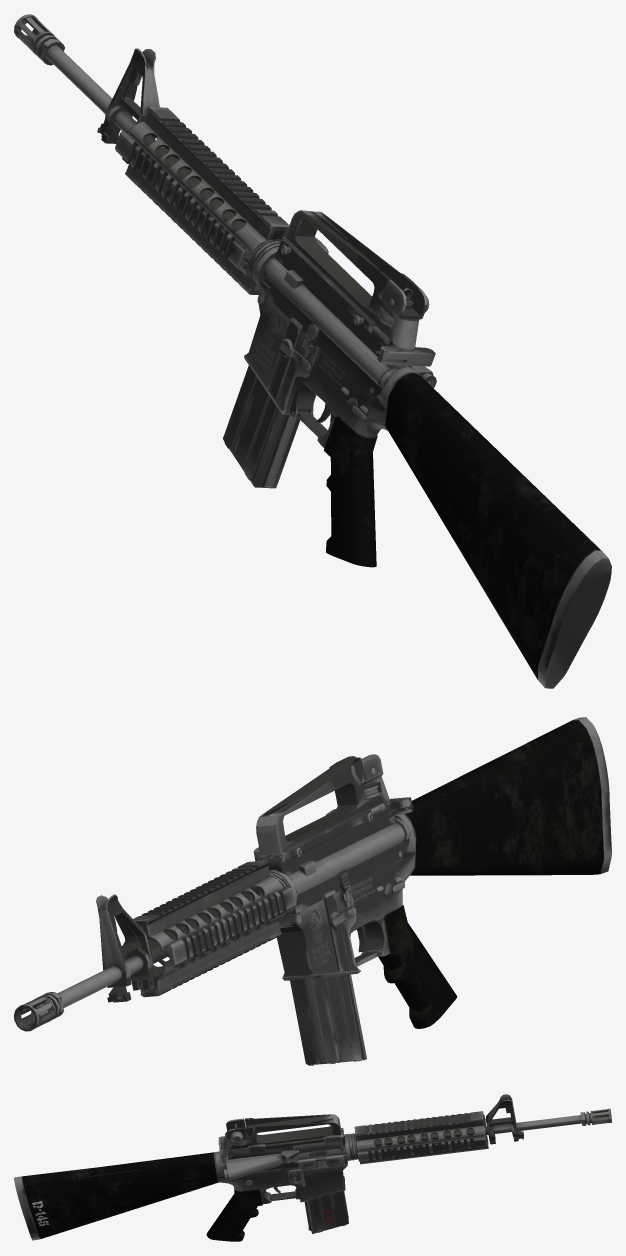
File: rifle_556.glb
3 views of the same model, one above another, from view 1: azimuth 30°, elevation 25°; view 2: azimuth 150°, elevation 25°; view 3: azimuth 270°, elevation 25° (orthographic). The views are drawn at different scales.
Visible parts, largest first — view 1: item; view 2: item; view 3: item.
Part boxes in pixels (x1,y1,x2,y2): item: [14, 14, 611, 688]; item: [14, 717, 611, 1065]; item: [14, 1094, 611, 1241].
Size of the model in its own units: 0.1019 by 0.2954 by 1.
Materials: 1 (1 with a texture image).
